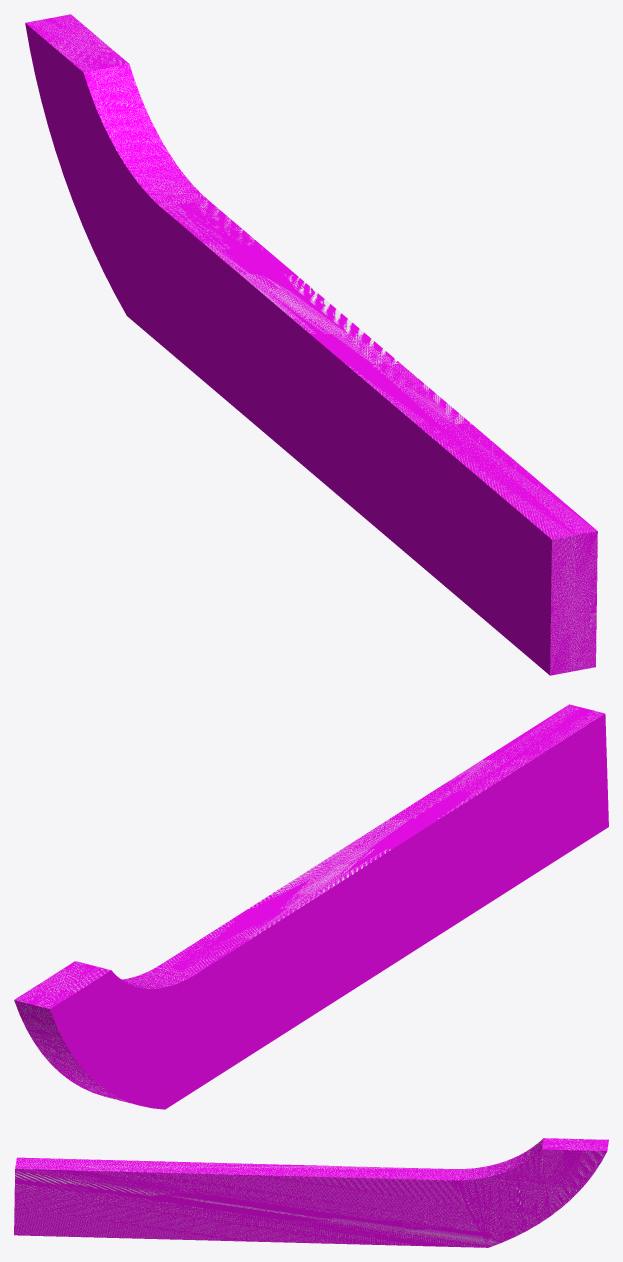
File: original-2.obj
The picture shows the model from 3 angles, top to bottom: view 1: azimuth 30°, elevation 25°; view 2: azimuth 150°, elevation 25°; view 3: azimuth 270°, elevation 25°; orthographic projection. The views are drawn at different scales.
Visible parts, largest first — view 1: mesh2/mesh2-geometry#mesh2-geometry; view 2: mesh2/mesh2-geometry#mesh2-geometry; view 3: mesh2/mesh2-geometry#mesh2-geometry.
Boxes of the visible parts, left/top/right/bottom form: mesh2/mesh2-geometry#mesh2-geometry: left=25, top=14, right=597, bottom=675; mesh2/mesh2-geometry#mesh2-geometry: left=14, top=704, right=608, bottom=1109; mesh2/mesh2-geometry#mesh2-geometry: left=14, top=1138, right=608, bottom=1247.
Bounding box in the file's own units: 0.099 × 0.1702 × 0.9049.
